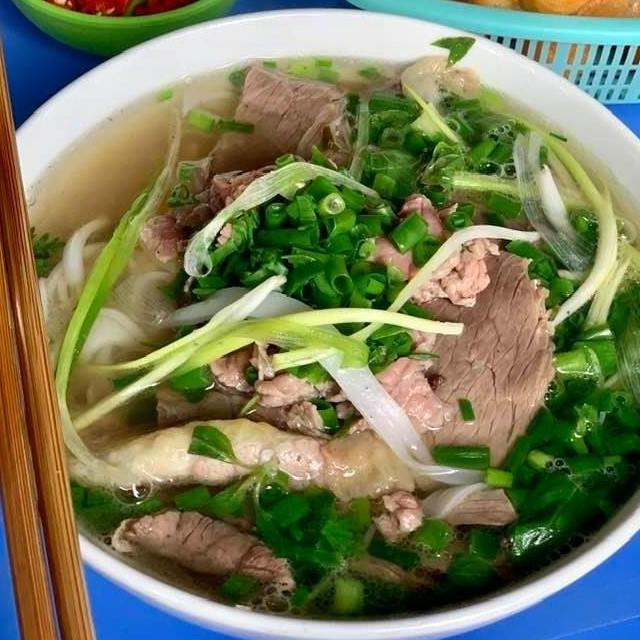banh pho: (26, 229, 190, 446)
pho bo: (1, 60, 640, 640)
thit bo: (326, 222, 563, 519), (130, 55, 363, 271), (144, 322, 339, 450), (326, 469, 532, 583), (103, 500, 300, 614), (357, 182, 508, 311)
